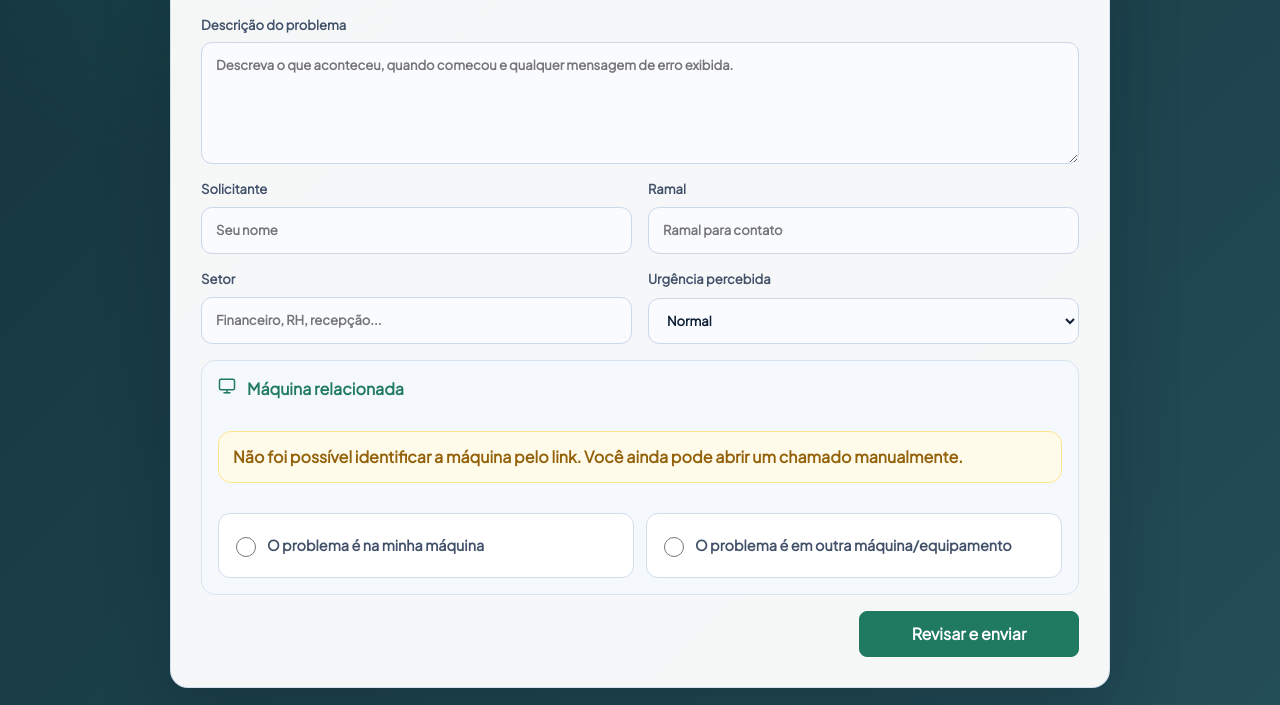
Test: PublicSupportRequest - contexto da maquina › contexto vazio mantem o aviso e usa localStorage/params como padrao
The width and height of the screenshot is (1280, 705).
(page scrolled)
Expected: the text "Não foi possível identificar a máquina pelo link" is shown, [233, 446, 963, 467]
Step 1. Click the radio button labelled "O problema é em outra máquina/equipamento" → click(674, 547), box [664, 526, 684, 568]
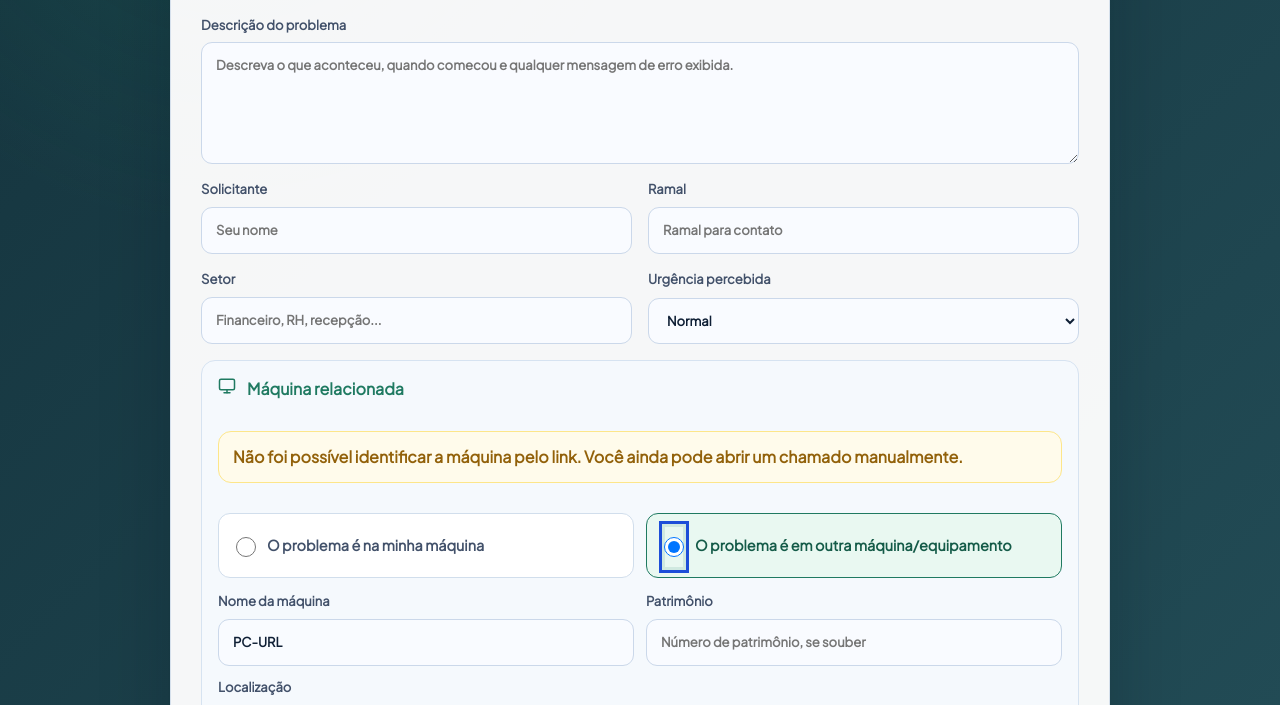
Expected: the field labelled "Nome da máquina" holds "PC-URL", [218, 619, 634, 666]
